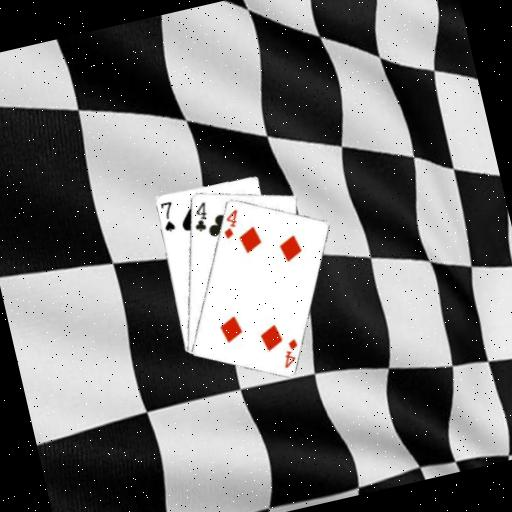4C: (186, 198, 213, 234)
4D: (216, 206, 245, 242), (275, 335, 304, 371)
7S: (156, 198, 179, 235)
